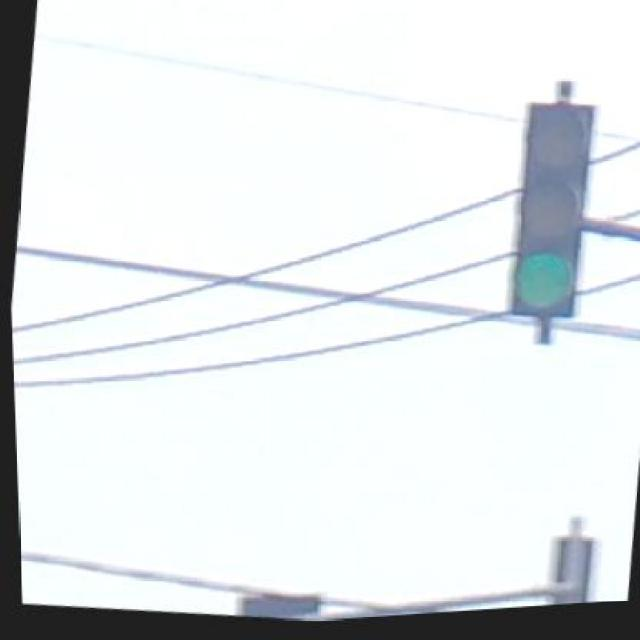green_light: (498, 105, 598, 328)
